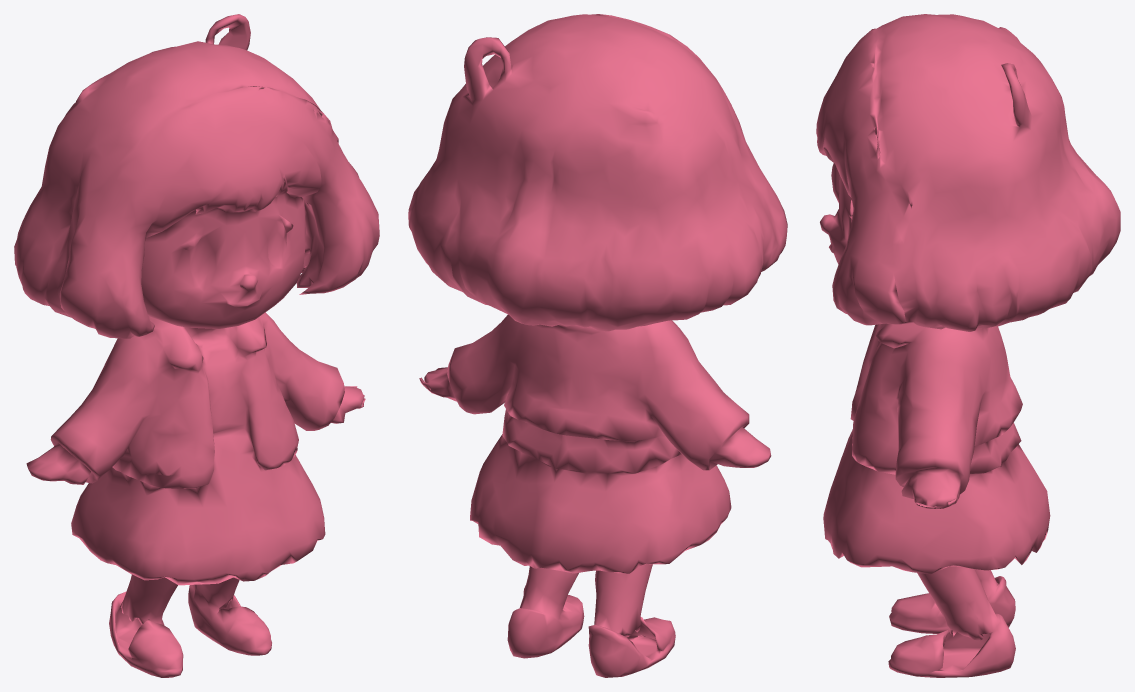
Rendered from female_converted.glb.
The picture shows the model from 3 angles, left to right: view 1: azimuth 30°, elevation 25°; view 2: azimuth 150°, elevation 25°; view 3: azimuth 270°, elevation 25°; orthographic projection. The views are drawn at different scales.
Visible parts, largest first — view 1: Mesh_0; view 2: Mesh_0; view 3: Mesh_0.
Boxes of the visible parts, x1,y1,x2,y2 form: Mesh_0: [14, 14, 379, 677]; Mesh_0: [408, 14, 787, 677]; Mesh_0: [816, 14, 1120, 677].
Size of the model in its own units: 1.18 by 2 by 0.8941.
